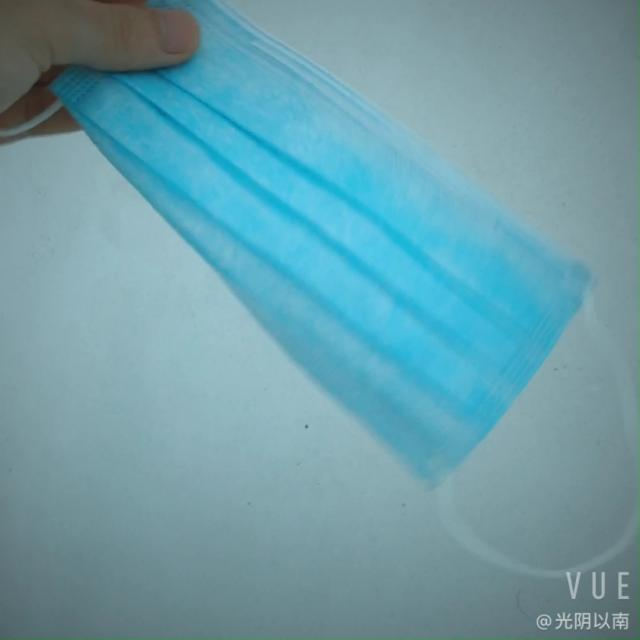non-organic waste: (17, 29, 564, 471)
